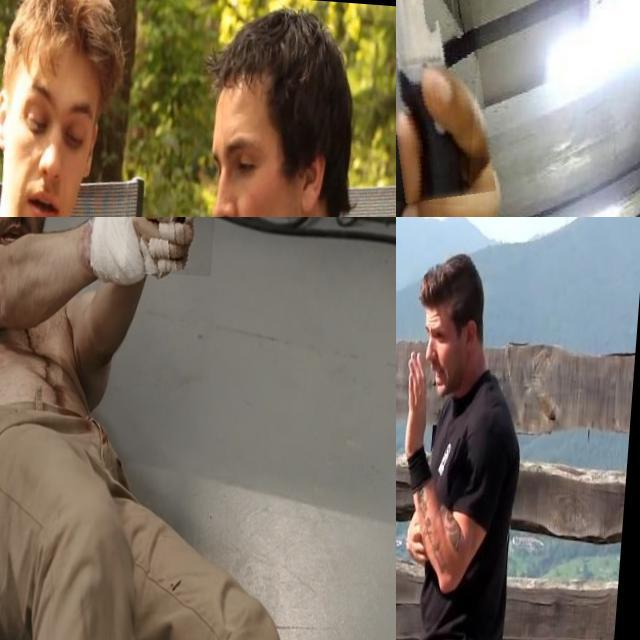-: (396, 0, 506, 217)
gun-knife-thesis - v11 Yolov5 augmented: (128, 217, 222, 291)
